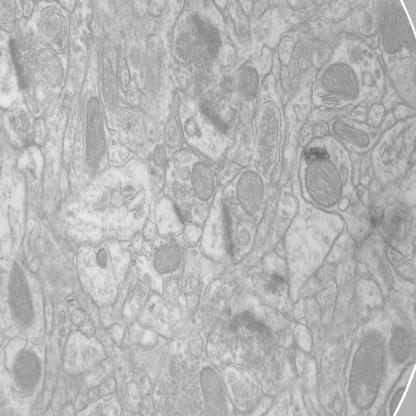mitochondria: (348, 335, 388, 412), (302, 158, 344, 210), (5, 263, 36, 332), (316, 64, 360, 101), (198, 364, 227, 416), (11, 350, 43, 395), (236, 169, 265, 217), (86, 98, 104, 172), (381, 11, 405, 56), (331, 122, 370, 148), (153, 242, 183, 274), (191, 162, 215, 201), (389, 328, 412, 364), (239, 66, 261, 101), (97, 248, 108, 268)
